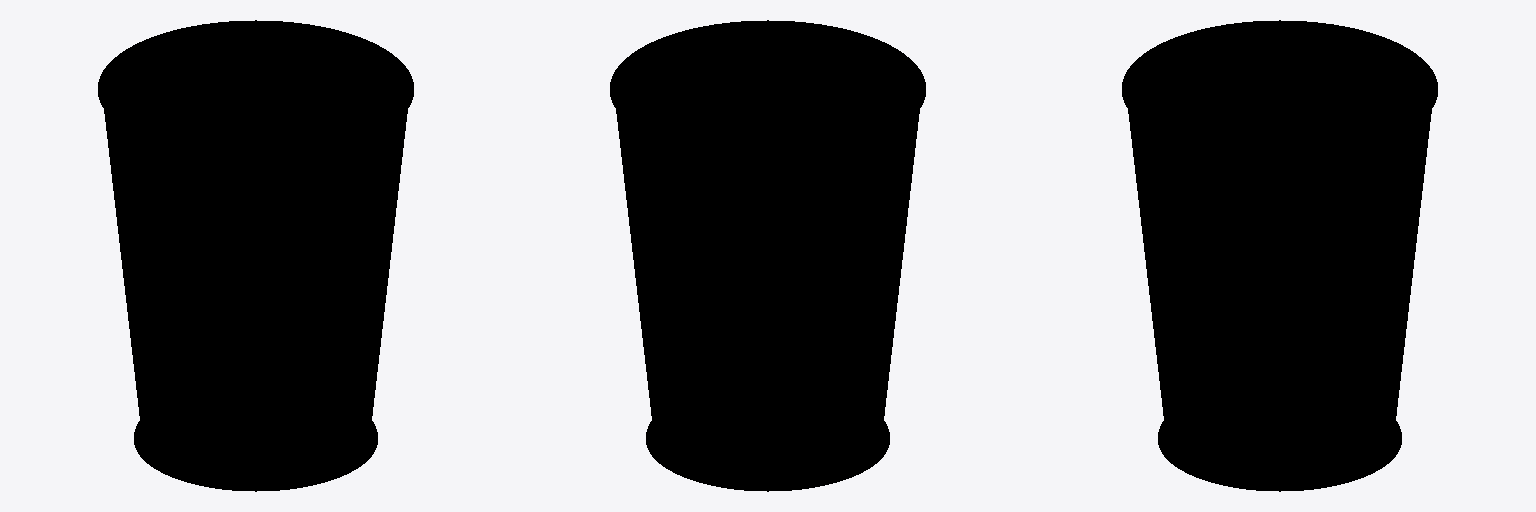
robot.urdf — bin:
<?xml version="1.0" ?>
<robot name="bin">
  <link name="baseLink">
    <contact>
      <lateral_friction value="1.0"/>
      <rolling_friction value="0.0"/>
      <contact_cfm value="0.0"/>
      <contact_erp value="1.0"/>
    </contact>
    <inertial>
      <origin rpy="0 0 0" xyz="0.0225 0.000 0.0047"/>
       <mass value="0.3"/>
       <inertia ixx="0.00012333" ixy="-0.0" ixz="-0.0" iyy="0.00005145" iyz="0.00000007" izz="0.00012910"/>
    </inertial>
    <visual>
      <origin rpy="0 0 0" xyz="0.0225 0.000 0.0047"/>
      <geometry>
        <mesh filename="../obj/bin.obj" scale="0.01 0.01 0.01"/>
      </geometry>
       <material name="black">
        <color rgba="0 0 0 1"/>
      </material>
    </visual>
    <collision concave="yes">
      <origin rpy="0 0 0" xyz="0.0225 0.000 0.0047"/>
      <geometry>
	 	<mesh filename="../obj/bin.obj" scale="0.01 0.01 0.01"/>
      </geometry>
    </collision>
  </link>
</robot>

--- Render facts (derived) ---
3 views of the same robot in one strip: view 1: azimuth 30°, elevation 25°; view 2: azimuth 150°, elevation 25°; view 3: azimuth 270°, elevation 25° (orthographic).
Model bin with 1 links and 0 joints (none), rooted at baseLink, posed all joints at 0.
Visible links, largest first — view 1: baseLink; view 2: baseLink; view 3: baseLink.
Boxes of the visible links, x1=… form: baseLink: x1=98, y1=20, x2=413, y2=491; baseLink: x1=610, y1=20, x2=925, y2=491; baseLink: x1=1122, y1=20, x2=1437, y2=491.
Size in the robot's own frame: 0.2842 by 0.2842 by 0.3517 metres.
1 mesh visuals loaded from 1 distinct referenced files (1 OBJ).
